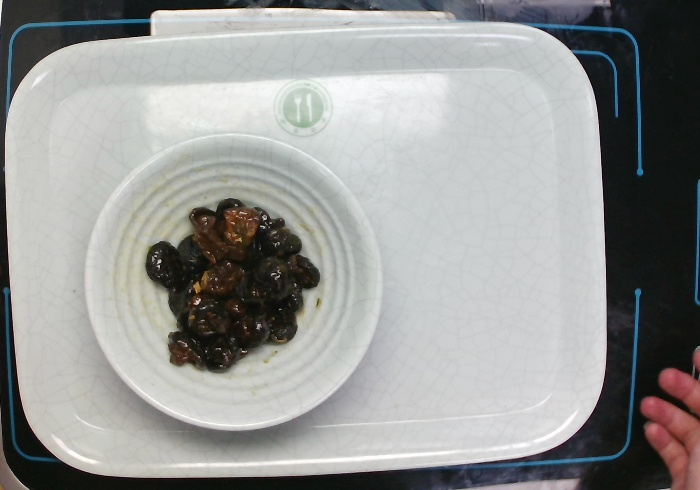JYsf-Xiao_Tang_Wan: (79, 127, 389, 436)
